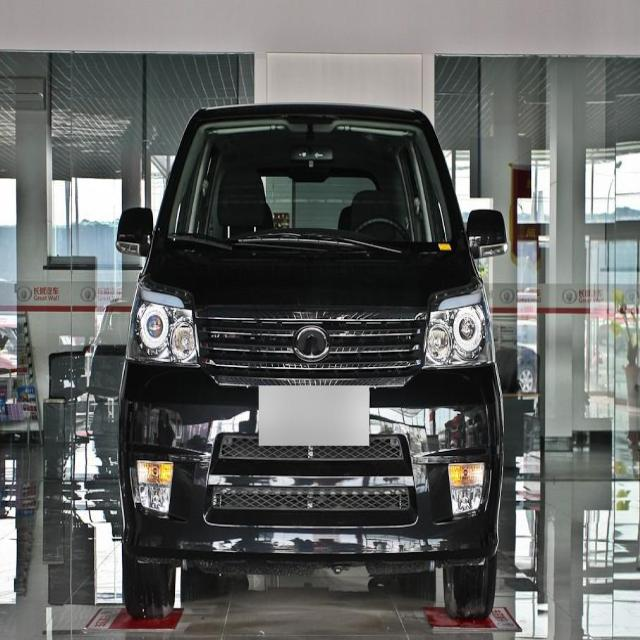front_bumper: (118, 392, 501, 566)
front_glass: (166, 114, 454, 256)
front_left_side_light: (420, 281, 498, 373)
front_left_side_mirror: (464, 202, 509, 262)
front_right_side_light: (125, 284, 202, 369)
front_right_side_mirror: (115, 204, 154, 260)
